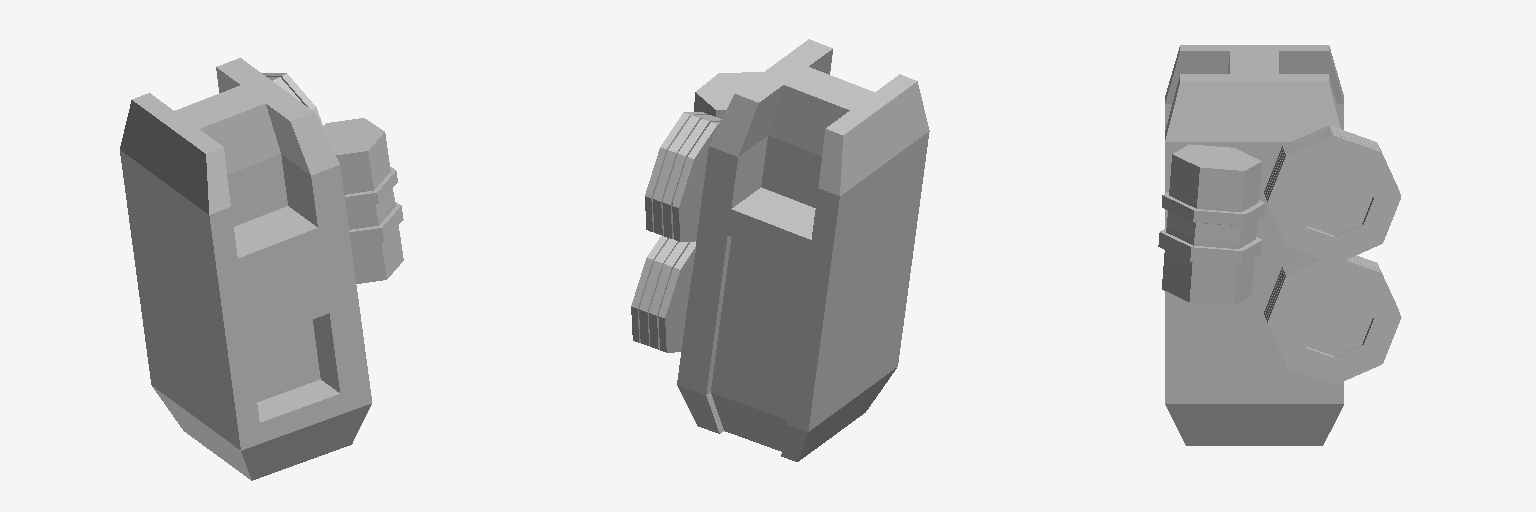
File: R_LegFo.obj
The picture shows the model from 3 angles: view 1: azimuth 30°, elevation 25°; view 2: azimuth 150°, elevation 25°; view 3: azimuth 270°, elevation 25°; orthographic projection.
Visible parts, largest first — view 1: pCube67 group5, opppk:group5 opppk:pCylinder37 opppk:polySurface1 group pasted__, opppk:group3 opppk:pCylinder48 pasted__polySurface46 opppk:polyS; view 2: pCube67 group5, opppk:group3 opppk:pCylinder48 pasted__polySurface46 opppk:polyS, opppk:group3 opppk:pCylinder48 opppk:polySurface1 group pasted__, opppk:group5 opppk:pCylinder37 opppk:polySurface1 group pasted__; view 3: pCube67 group5, opppk:group5 opppk:pCylinder37 opppk:polySurface1 group pasted__, opppk:group3 opppk:pCylinder48 pasted__polySurface46 opppk:polyS, opppk:group3 opppk:pCylinder48 opppk:polySurface1 group pasted__.
Part boxes in pixels (x1,y1,x2,y2): pCube67 group5: (120,58,371,480); opppk:group5 opppk:pCylinder37 opppk:polySurface1 group pasted__: (322,118,403,283); opppk:group3 opppk:pCylinder48 pasted__polySurface46 opppk:polyS: (262,73,322,126); pCube67 group5: (677,39,929,461); opppk:group3 opppk:pCylinder48 pasted__polySurface46 opppk:polyS: (645,112,721,241); opppk:group3 opppk:pCylinder48 opppk:polySurface1 group pasted__: (631,235,695,352); opppk:group5 opppk:pCylinder37 opppk:polySurface1 group pasted__: (694,72,762,118); pCube67 group5: (1165,45,1343,445); opppk:group5 opppk:pCylinder37 opppk:polySurface1 group pasted__: (1158,144,1264,305); opppk:group3 opppk:pCylinder48 pasted__polySurface46 opppk:polyS: (1264,125,1400,263); opppk:group3 opppk:pCylinder48 opppk:polySurface1 group pasted__: (1264,255,1401,384).
Size of the model in its own units: 1.62 by 2.65 by 1.64.